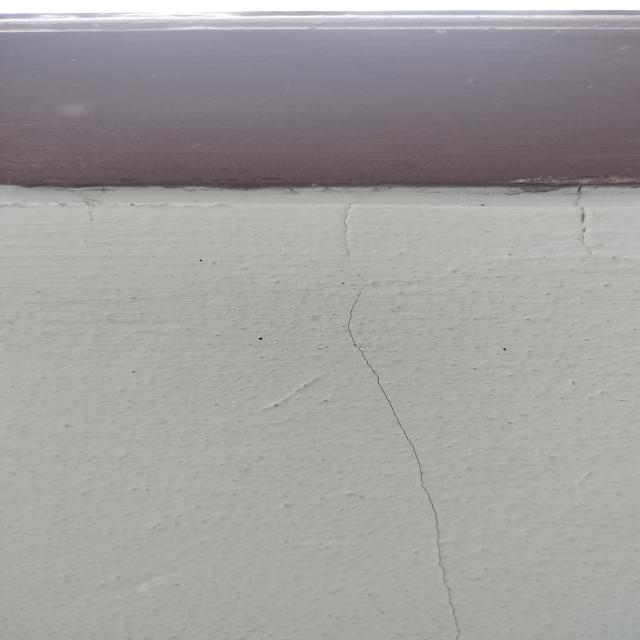Crack: (331, 275, 467, 635)
